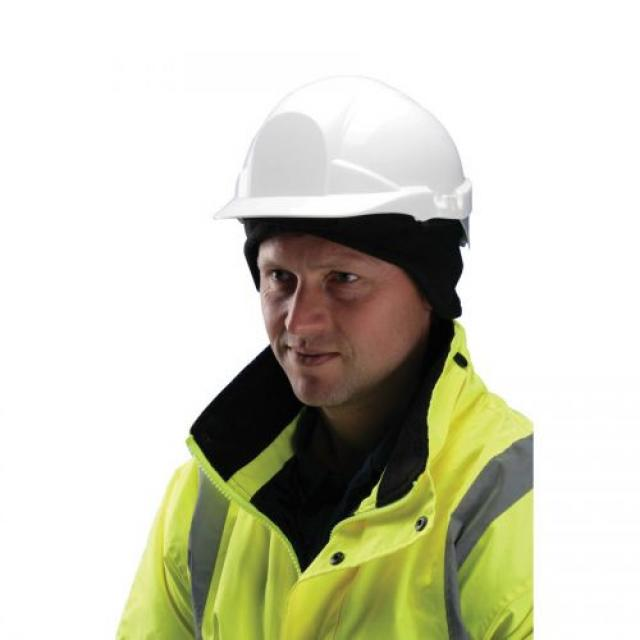Reflective-Jacket: (148, 358, 542, 638)
Safety-Helmet: (217, 75, 478, 228)
